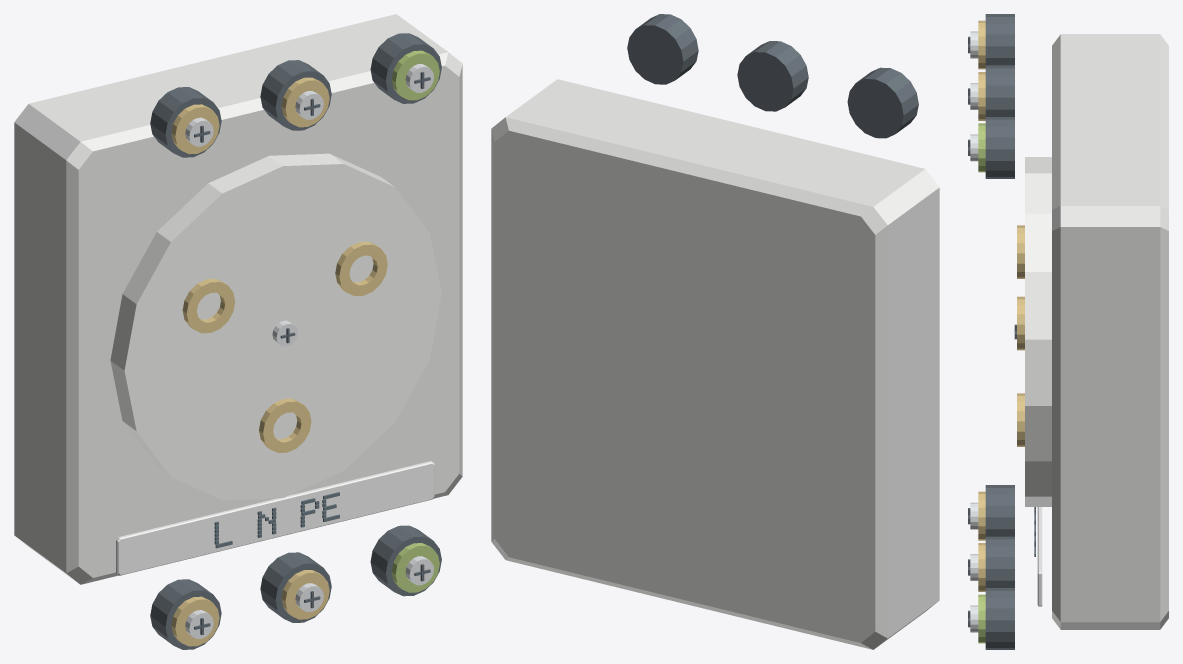
File: socketOutlet.glb
The picture shows the model from 3 angles, left to right: view 1: azimuth 30°, elevation 25°; view 2: azimuth 150°, elevation 25°; view 3: azimuth 270°, elevation 25°; orthographic projection. The views are drawn at different scales.
Parts seen in each view (by area): view 1: socketOutlet-preview; view 2: socketOutlet-preview; view 3: socketOutlet-preview.
Boxes of the visible parts, x1,y1,x2,y2 form: socketOutlet-preview: (14,14,462,649); socketOutlet-preview: (491,14,939,649); socketOutlet-preview: (968,14,1168,649).
Size of the model in its own units: 2.21 by 2.94 by 1.01.
